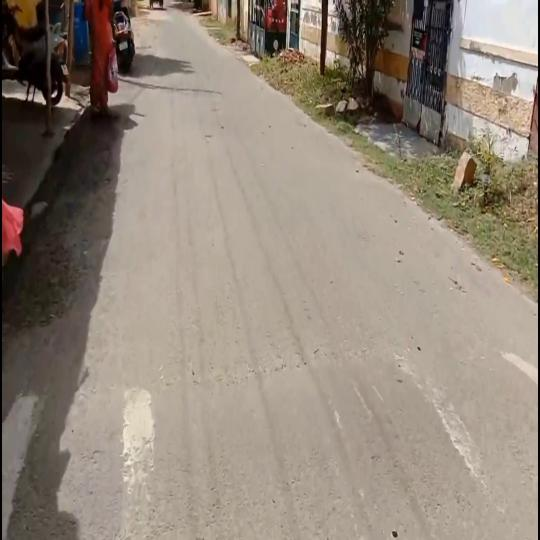Speed Bump: (2, 346, 539, 539)
